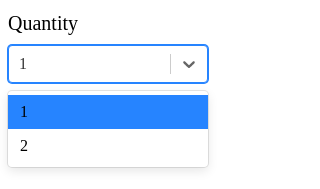
App › Quantity List › should have correct selectable options if less than 15
Type keys "[ArrowDown]"
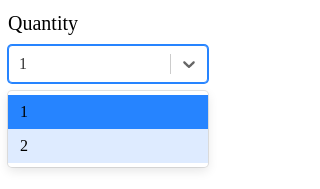
Click the option "2". click: [108, 146]
box: [8,129,208,163]
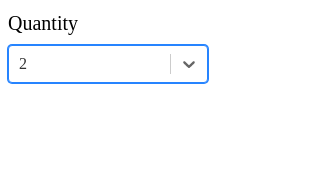
Result: the text "2" is shown at [19,55,27,72]
